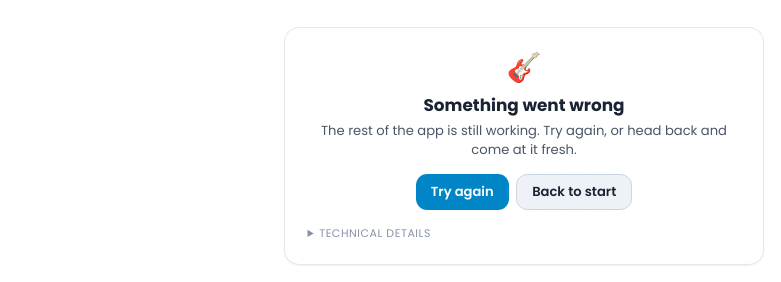
Test: ErrorBoundary › recovers when the child stops throwing and Try again is pressed
The image size is (781, 282).
Expected: the message is shown, [284,27,764,265]
Click the button "Try again": (462, 192) [416,174,509,210]
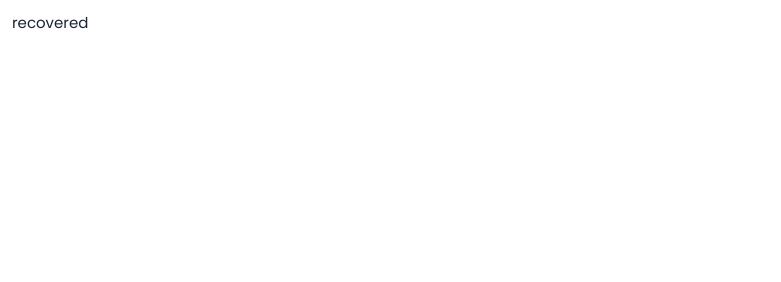
Result: the text "recovered" is shown at [12,12,88,33]
